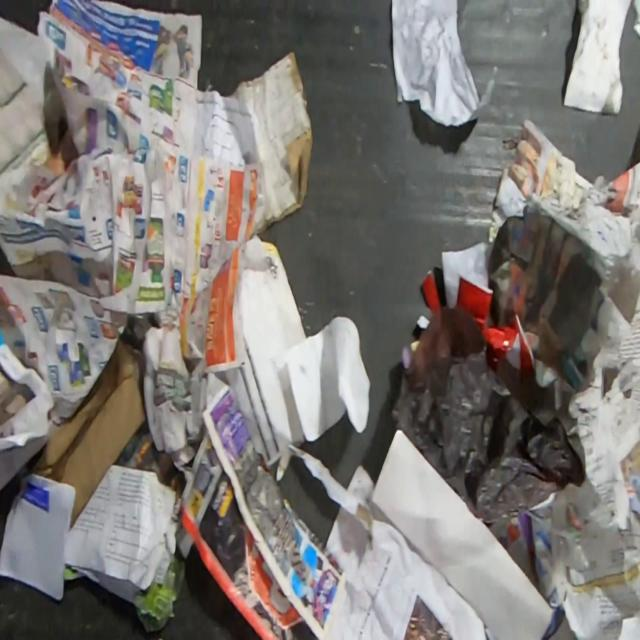cardboard: (29, 336, 148, 528), (226, 49, 314, 234), (260, 237, 308, 345)
rigid_plastic: (419, 240, 517, 371)
soft_plastic: (390, 305, 586, 524)
